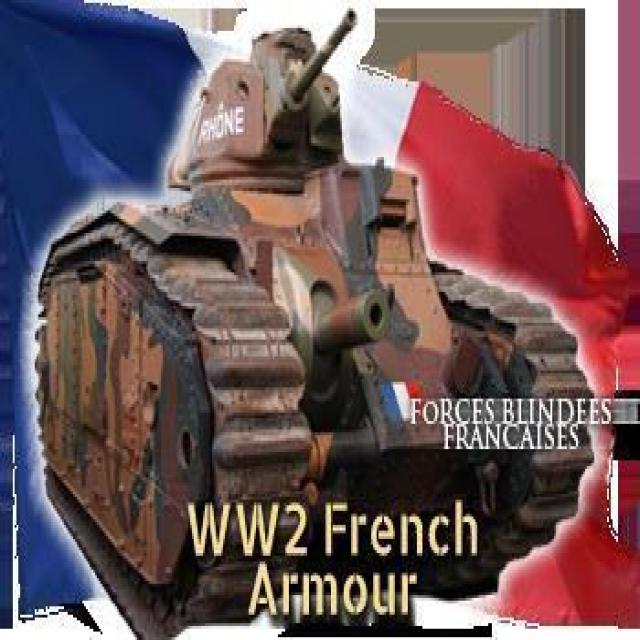Tanks: (22, 29, 596, 572)
